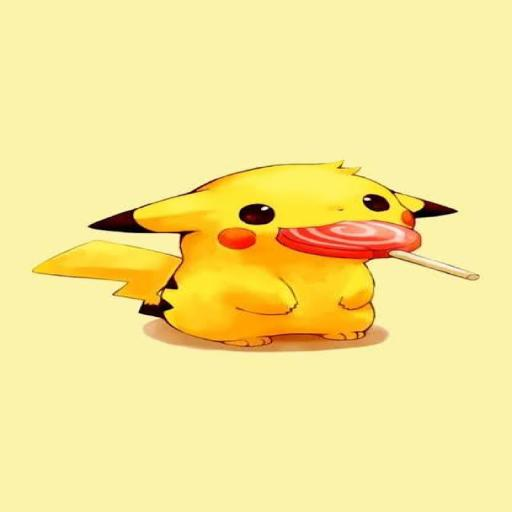Pikachu: (26, 157, 458, 347)
